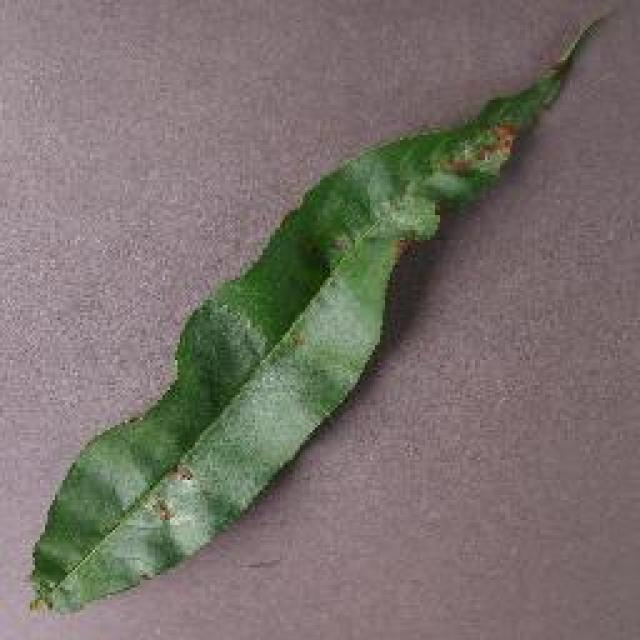Peach_Bacterial_Spot: (288, 71, 517, 292)
